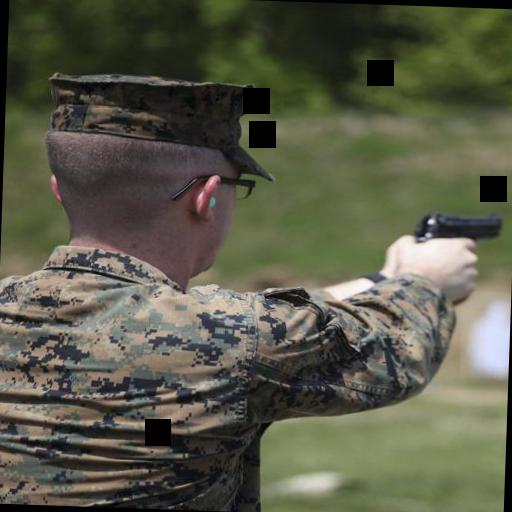Handgun: (409, 208, 502, 260)
